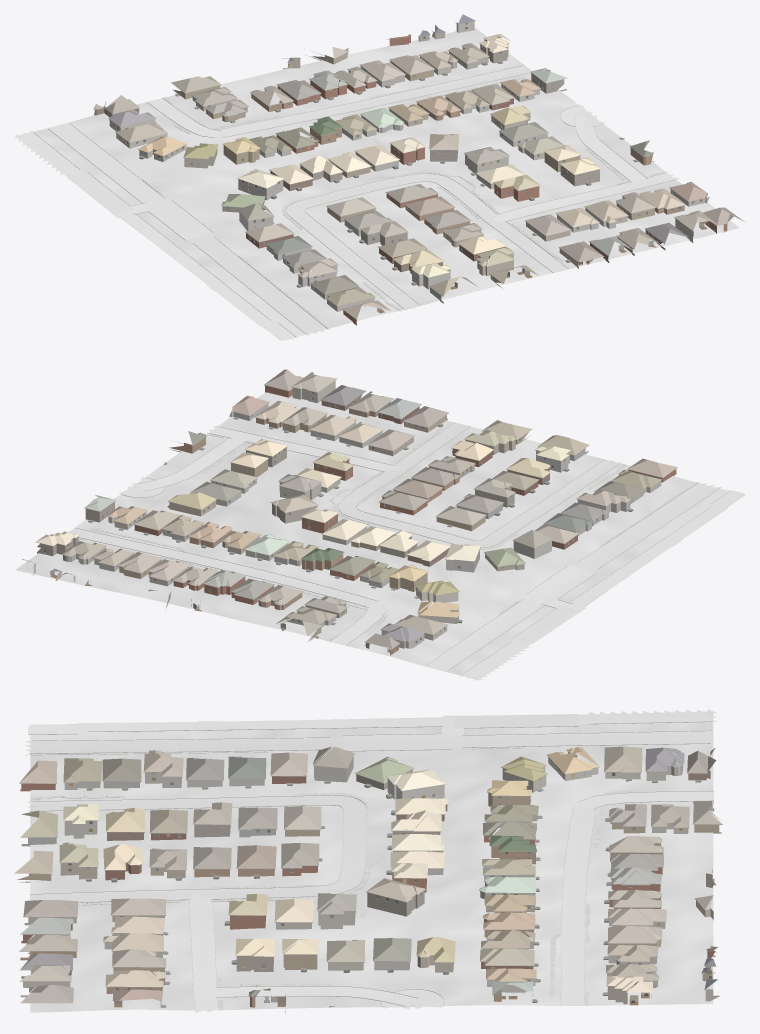
3 views of the same model, one above another, from view 1: azimuth 30°, elevation 25°; view 2: azimuth 150°, elevation 25°; view 3: azimuth 270°, elevation 25° (orthographic). The views are drawn at different scales.
Visible parts, largest first — view 1: ground, roof, concrete, wall, asphalt, detail, wall_stone, curb, wall_stucco, walk, glass; view 2: ground, roof, concrete, wall, asphalt, detail, wall_stone, curb, wall_stucco, walk; view 3: ground, roof, concrete, asphalt, wall, curb, detail, wall_stone, wall_stucco, walk, room, mark_w (+2 smaller).
Boxes of the visible parts, x1,y1,x2,y2 form: ground: [18, 27, 739, 340]; roof: [93, 14, 745, 319]; concrete: [22, 65, 679, 310]; wall: [94, 32, 727, 325]; asphalt: [14, 123, 325, 340]; detail: [93, 21, 726, 319]; wall_stone: [192, 56, 709, 311]; curb: [32, 65, 676, 337]; wall_stucco: [109, 21, 693, 303]; walk: [142, 64, 666, 329]; glass: [112, 23, 709, 284]; ground: [15, 392, 745, 680]; roof: [22, 369, 677, 651]; concrete: [69, 422, 681, 675]; wall: [37, 385, 676, 655]; asphalt: [426, 483, 744, 680]; detail: [27, 378, 677, 650]; wall_stone: [94, 403, 661, 627]; curb: [76, 422, 730, 675]; wall_stucco: [32, 380, 643, 648]; walk: [78, 427, 698, 641]; ground: [30, 711, 713, 1012]; roof: [14, 746, 721, 1003]; concrete: [27, 712, 713, 1012]; asphalt: [25, 709, 717, 753]; wall: [17, 769, 721, 1012]; curb: [26, 721, 713, 1011]; detail: [19, 750, 722, 1007]; wall_stone: [64, 757, 688, 1005]; wall_stucco: [20, 752, 719, 1001]; walk: [29, 747, 713, 1010]; room: [28, 766, 717, 1007]; mark_w: [32, 714, 713, 991].
Size of the model in its own units: 261 by 14.91 by 268.
